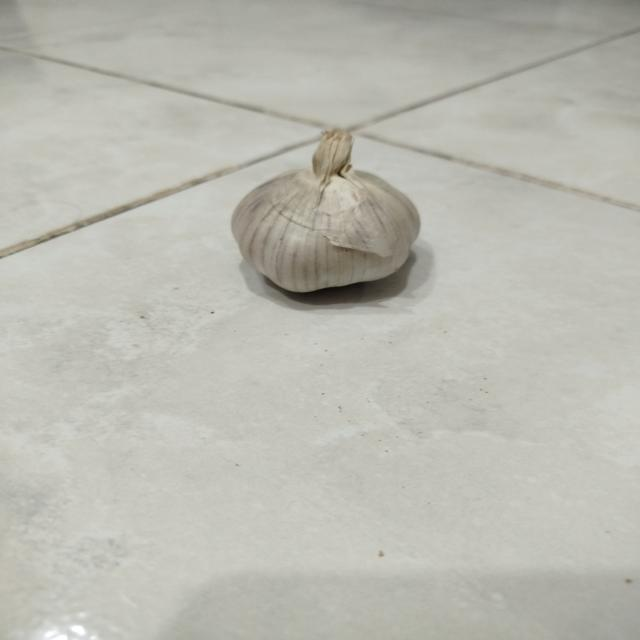garlic: (230, 128, 421, 294)
